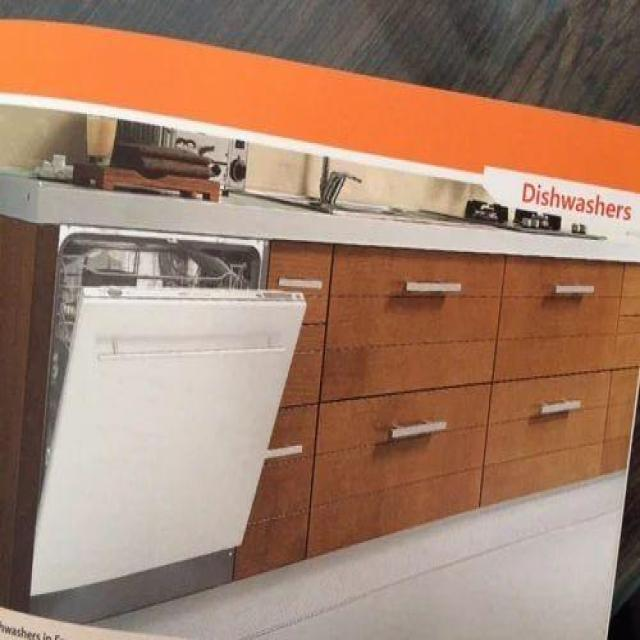dishwasher: (37, 184, 307, 616)
